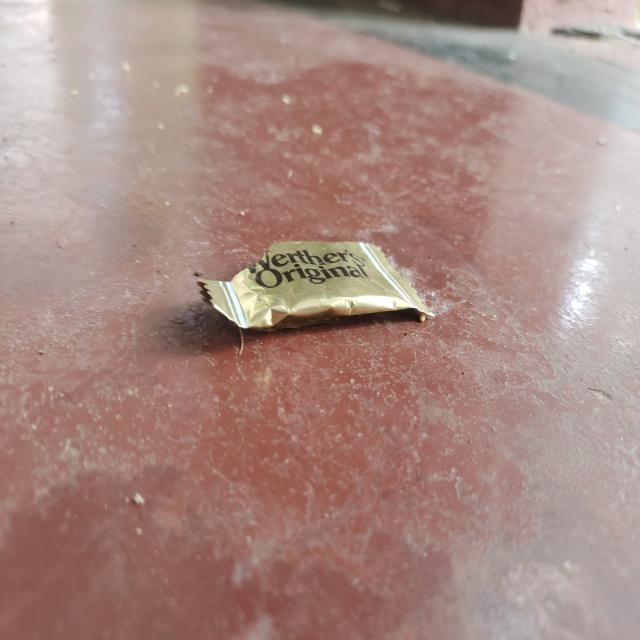plastic: (198, 236, 436, 333)
